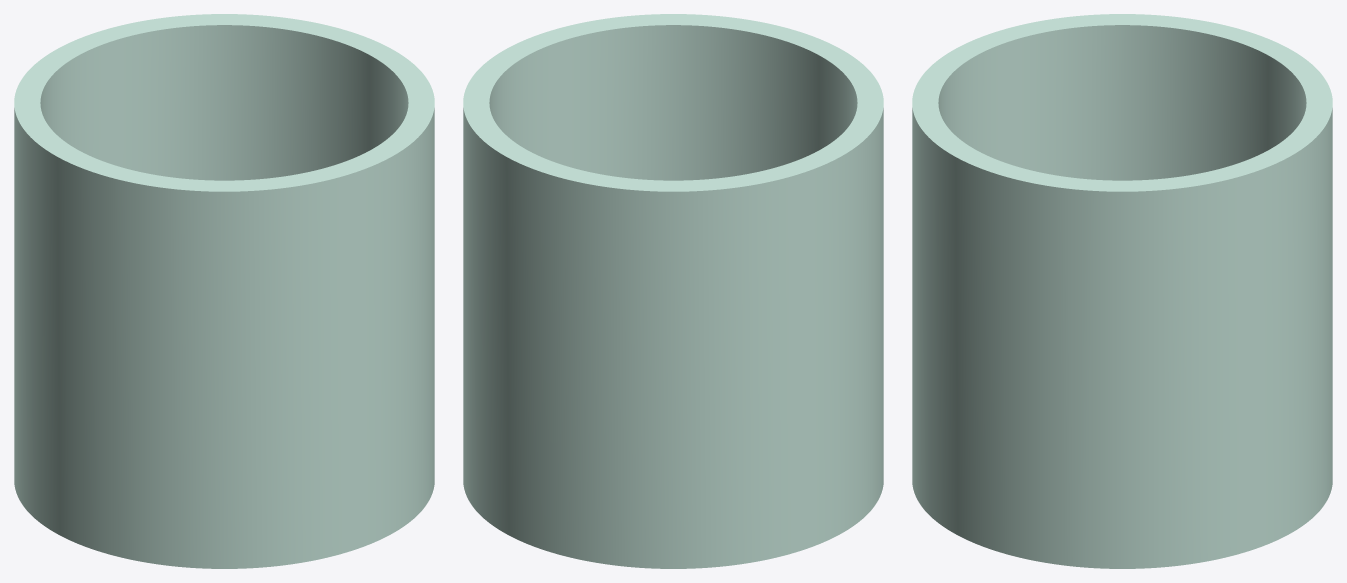
3 renders of one model, left to right at view 1: azimuth 30°, elevation 25°; view 2: azimuth 150°, elevation 25°; view 3: azimuth 270°, elevation 25°, orthographic.
Visible parts, largest first — view 1: Renderer Node; view 2: Renderer Node; view 3: Renderer Node.
Part boxes in pixels (<box>): Renderer Node: <box>14,14,434,568</box>; Renderer Node: <box>463,14,883,568</box>; Renderer Node: <box>912,14,1332,568</box>.
Bounding box in the file's own units: 0.7577 × 0.75 × 0.7579.
